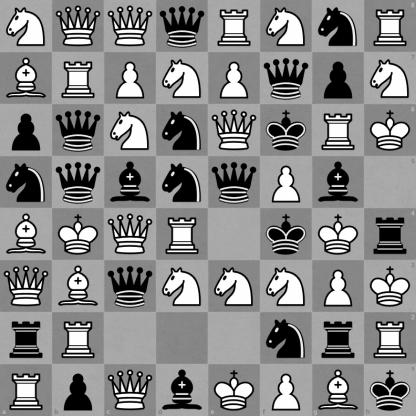B: (312, 364, 364, 416), (1, 53, 52, 104), (1, 209, 52, 260), (53, 261, 104, 312)
K: (364, 104, 416, 156), (364, 260, 416, 312), (209, 364, 260, 416), (53, 209, 104, 260), (313, 209, 364, 260)
N: (364, 52, 416, 104), (1, 1, 52, 52), (105, 105, 156, 156), (157, 53, 208, 104), (157, 261, 208, 312), (209, 261, 260, 312), (261, 1, 312, 52), (261, 261, 312, 312)
P: (260, 364, 312, 416), (105, 53, 156, 104), (209, 53, 260, 104), (261, 157, 312, 208), (313, 261, 364, 312)
Q: (104, 364, 156, 416), (1, 261, 52, 312), (53, 1, 104, 52), (105, 1, 156, 52), (105, 209, 156, 260), (209, 105, 260, 156)
R: (0, 364, 52, 416), (364, 0, 416, 52), (364, 312, 416, 364), (53, 53, 104, 104), (53, 313, 104, 364), (157, 209, 208, 260), (209, 1, 260, 52), (313, 105, 364, 156)
b: (156, 364, 209, 416), (105, 157, 156, 208), (313, 157, 364, 208)
board: (0, 0, 415, 415)
k: (364, 364, 416, 416), (261, 105, 312, 156), (261, 209, 312, 260)
n: (1, 157, 52, 208), (157, 105, 208, 156), (157, 157, 208, 208), (261, 313, 312, 364), (313, 1, 364, 52)
p: (52, 364, 104, 416), (1, 105, 52, 156), (313, 53, 364, 104)
q: (53, 105, 104, 156), (53, 157, 104, 208), (105, 261, 156, 312), (157, 1, 208, 52), (209, 157, 260, 208), (261, 53, 312, 104)
r: (364, 209, 416, 260), (1, 313, 52, 364), (313, 313, 364, 364)
